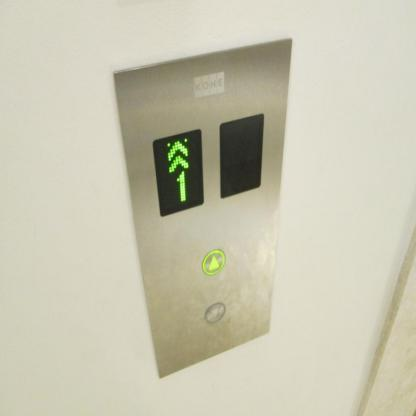down: (204, 301, 226, 326)
led: (152, 125, 206, 219), (218, 110, 265, 200)
up: (201, 248, 226, 277)
